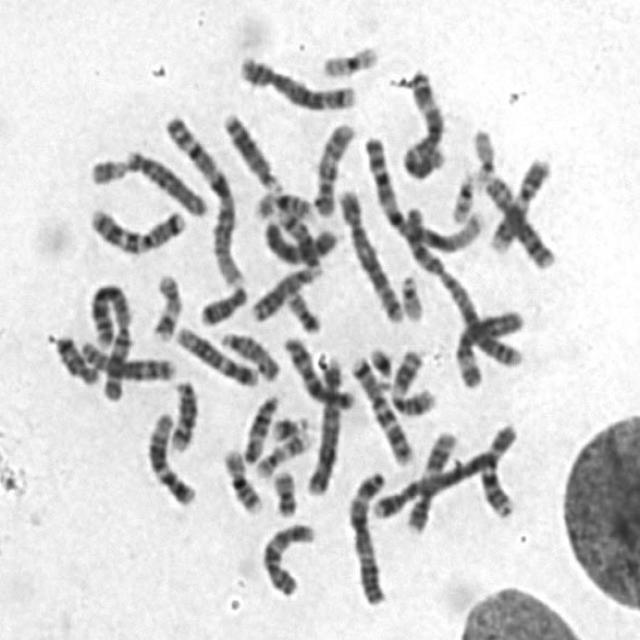A1: (358, 126, 487, 254), (159, 108, 246, 290)
A2: (397, 196, 526, 370), (82, 277, 135, 403)
A3: (340, 462, 390, 607), (394, 63, 450, 180)
B4: (364, 416, 520, 522), (301, 348, 346, 498)
B5: (333, 180, 406, 324), (233, 47, 358, 113)
C10: (254, 514, 318, 599), (307, 114, 358, 219)
C11: (402, 423, 459, 535), (385, 342, 439, 418)
C12: (168, 317, 261, 388), (140, 404, 200, 507)
C6: (88, 149, 208, 221), (449, 300, 528, 391)
C7: (345, 350, 416, 467), (83, 198, 188, 256)
C8: (479, 167, 558, 271), (73, 332, 178, 383)
C9: (484, 151, 554, 254), (474, 416, 520, 520)
D13: (217, 103, 284, 193), (245, 258, 324, 323)
D14: (236, 387, 282, 466), (162, 371, 200, 454)
D15: (213, 323, 282, 382), (236, 387, 282, 466)
E16: (216, 440, 264, 516), (248, 182, 318, 222)
E17: (249, 424, 316, 479), (145, 265, 184, 344)
E18: (49, 327, 101, 387), (193, 277, 250, 328)
F19: (316, 36, 382, 80), (467, 120, 498, 188)
F20: (280, 283, 324, 335), (267, 461, 300, 519)
G21: (264, 408, 312, 444), (364, 338, 396, 390)
G22: (445, 162, 479, 225), (395, 265, 427, 323)
X: (278, 328, 358, 411), (256, 211, 340, 266)
